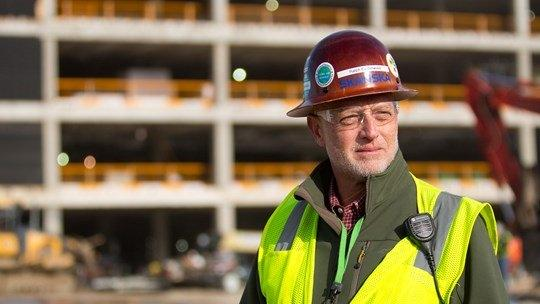helmet: (285, 32, 423, 118)
wear: (246, 194, 497, 304)
